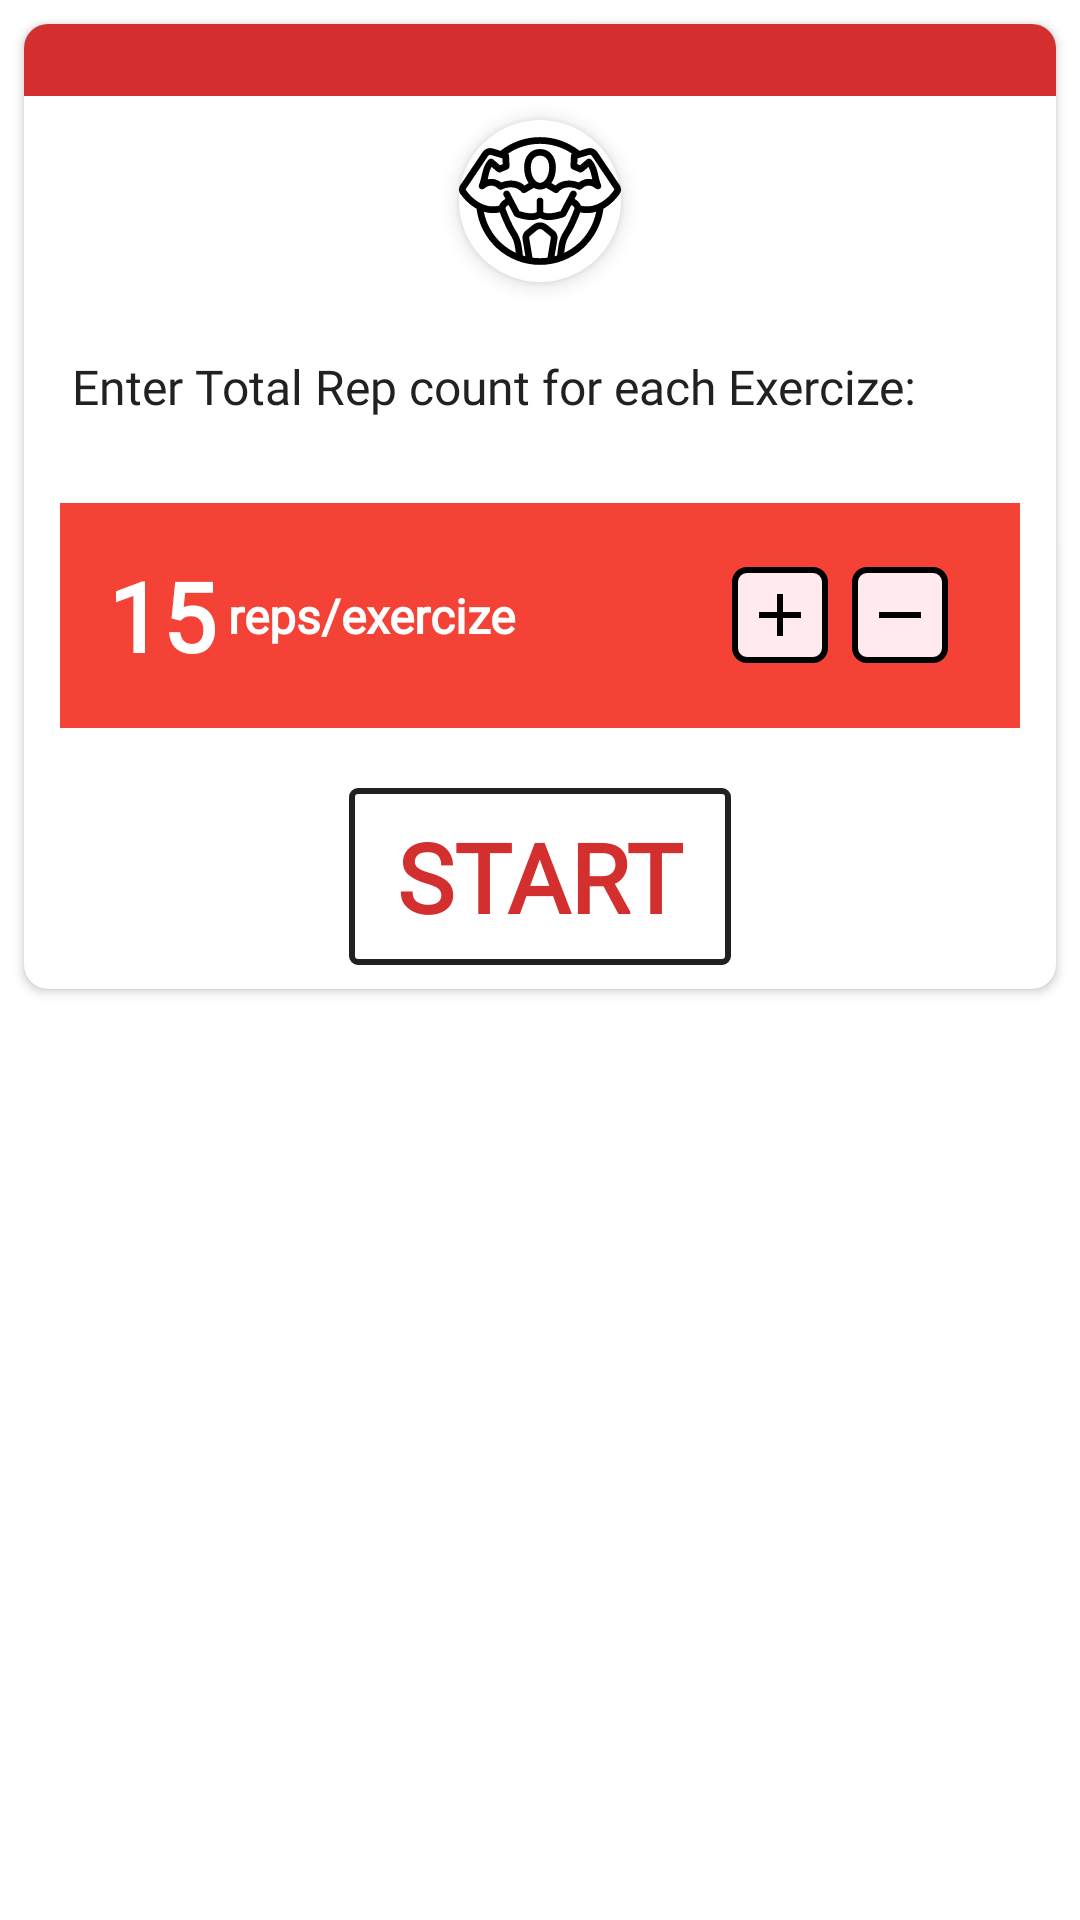

Icon click points for this 1080w x 1920h phone screenshot, format [x,y]:
add: [780,615]
subtract: [900,615]
